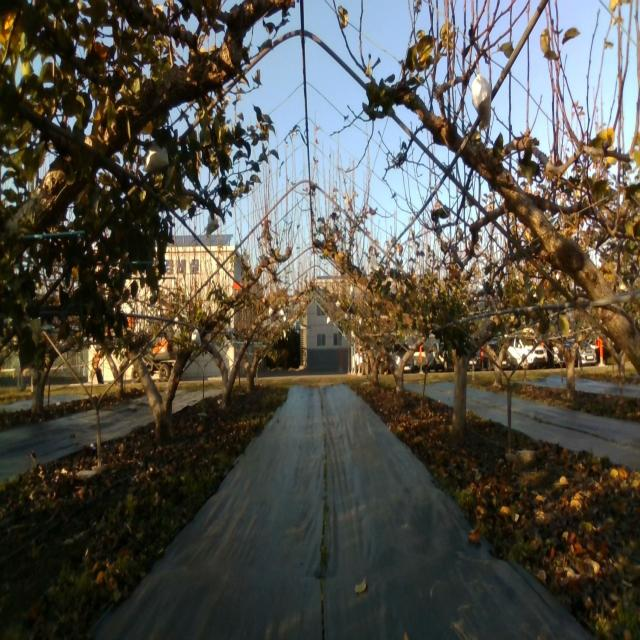pearbags: (471, 73, 491, 129), (142, 140, 170, 174), (206, 215, 220, 238)
